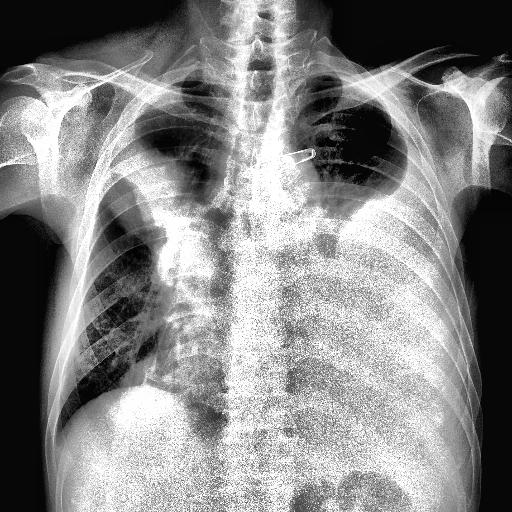10- Pleural effusion: (280, 126, 457, 410), (326, 140, 470, 448), (316, 131, 466, 422)
11- Pleural thickening: (328, 68, 383, 102)
4- Consolidation: (104, 114, 233, 292), (96, 130, 197, 272), (100, 134, 196, 250)
7- Lung Opacity: (104, 114, 233, 292), (96, 130, 197, 272), (312, 195, 379, 259)
8- Nodule-Mass: (100, 134, 196, 250)
